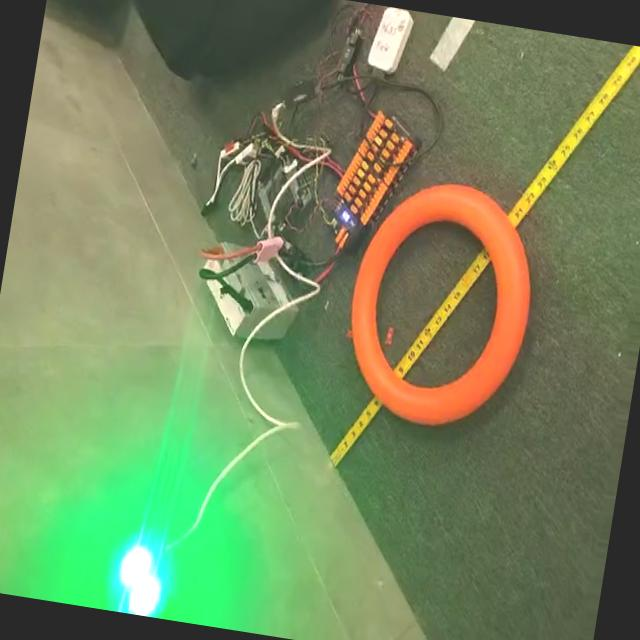note: (332, 168, 550, 442)
